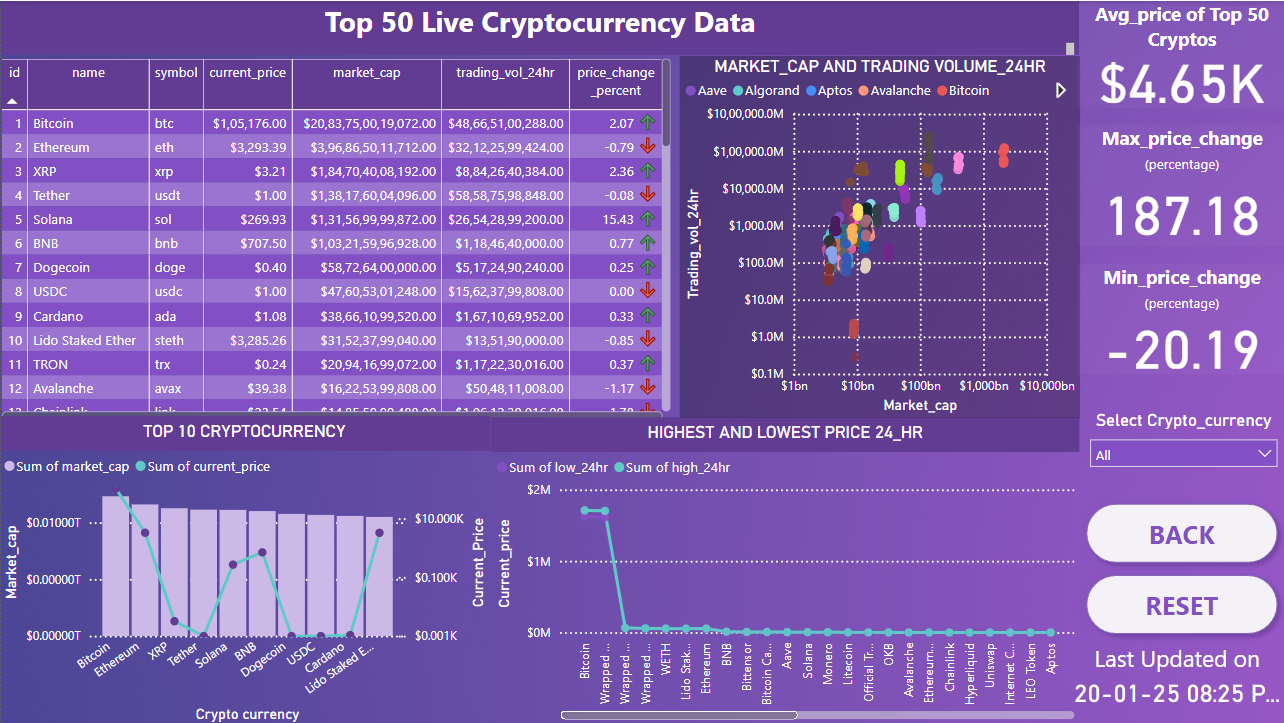

The dashboard page shown, as its layout file describes it:
{"tool":"powerbi","page":{"name":"Page 2","canvas":[1280,720],"ordinal":1},"visuals":[{"type":"tableEx","fields":{"Values":["cryptocurrency (2).id","cryptocurrency (2).name","cryptocurrency (2).symbol","cryptocurrency (2).current_price","cryptocurrency (2).market_cap","cryptocurrency (2).trading_vol_24hr","cryptocurrency (2).price_change_percent"]},"box":[0,56.7,666.7,360],"z":0},{"type":"lineChart","title":"HIGHEST AND LOWEST PRICE 24_HR","fields":{"Category":["cryptocurrency (2).name"],"Y":["Sum(cryptocurrency (2).low_24hr)","Sum(cryptocurrency (2).high_24hr)"]},"box":[487.1,414.3,585.7,305.7],"z":1000},{"type":"scatterChart","title":"MARKET_CAP AND TRADING VOLUME_24HR","fields":{"Y":["cryptocurrency (2).trading_vol_24hr"],"X":["cryptocurrency (2).market_cap"],"Series":["cryptocurrency (2).name"]},"box":[675,55,398.3,360],"z":2000},{"type":"lineStackedColumnComboChart","title":"TOP 10 CRYPTOCURRENCY","fields":{"Category":["cryptocurrency (2).name"],"Y":["Sum(cryptocurrency (2).market_cap)"],"Y2":["Sum(cryptocurrency (2).current_price)"]},"box":[0,412.9,487.1,307.1],"z":3000},{"type":"card","title":"Avg_price of Top 50 Cryptos","fields":{"Values":["Avg(cryptocurrency (2).current_price)"]},"box":[1071.7,0,208.3,106.7],"z":4000},{"type":"card","title":"Last Updated on","fields":{"Values":["Max(cryptocurrency (2).timestamp)"]},"box":[1061.4,638.6,218.6,81.4],"z":5000},{"type":"card","title":"Max_price_change","fields":{"Values":["Max(cryptocurrency (2).price_change_percent)"]},"box":[1071.4,122.9,208.6,120],"z":6000},{"type":"card","title":"Min_price_change","fields":{"Values":["Min(cryptocurrency (2).price_change_percent)"]},"box":[1071.7,261.7,208.3,110],"z":7000},{"type":"slicer","title":"Select Crypto_currency","fields":{"Values":["cryptocurrency (2).name"]},"box":[1073.3,406.7,206.7,85],"z":8000},{"type":"shape","box":[1071.7,491.7,208.3,76.7],"z":9000},{"type":"shape","box":[1071.7,561.7,208.3,76.7],"z":10000},{"type":"textbox","title":"Top 50 Live Cryptocurrency Data","box":[0,0,1073,53.3],"z":11000}]}

Visuals, with their boxes in screenshot pixels (x1, y1, x2, y2), scaled from the page's 1280x720 canvas onto the 1284x723 screenshot:
tableEx - cryptocurrency (2).id x cryptocurrency (2).name: [x1=0, y1=57, x2=669, y2=418]
"HIGHEST AND LOWEST PRICE 24_HR" lineChart: [x1=489, y1=416, x2=1076, y2=722]
"MARKET_CAP AND TRADING VOLUME_24HR" scatterChart: [x1=677, y1=55, x2=1077, y2=417]
"TOP 10 CRYPTOCURRENCY" lineStackedColumnComboChart: [x1=0, y1=415, x2=489, y2=722]
"Avg_price of Top 50 Cryptos" card: [x1=1075, y1=0, x2=1283, y2=107]
"Last Updated on" card: [x1=1065, y1=641, x2=1283, y2=722]
"Max_price_change" card: [x1=1075, y1=123, x2=1283, y2=244]
"Min_price_change" card: [x1=1075, y1=263, x2=1283, y2=373]
"Select Crypto_currency" slicer: [x1=1077, y1=408, x2=1283, y2=494]
shape: [x1=1075, y1=494, x2=1283, y2=571]
shape: [x1=1075, y1=564, x2=1283, y2=641]
"Top 50 Live Cryptocurrency Data" textbox: [x1=0, y1=0, x2=1076, y2=54]
